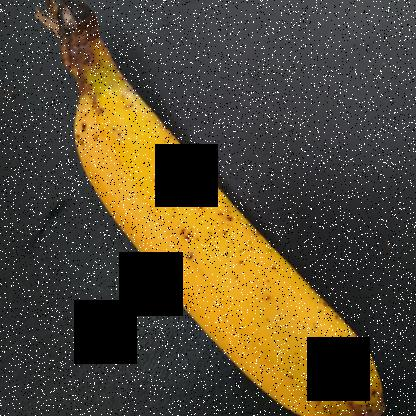ripe: (58, 87, 415, 415)
